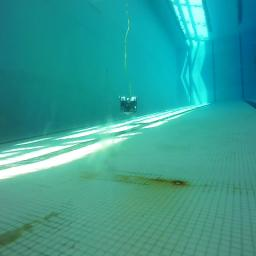front: (118, 96, 138, 112)
